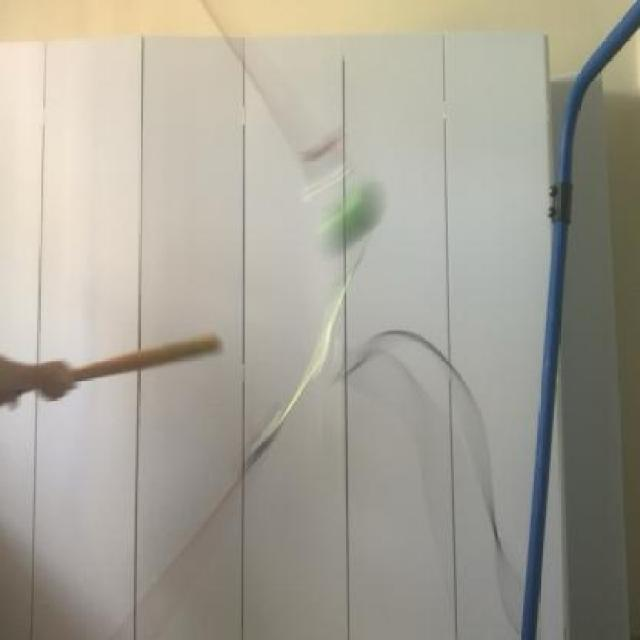baseball: (301, 171, 390, 254)
